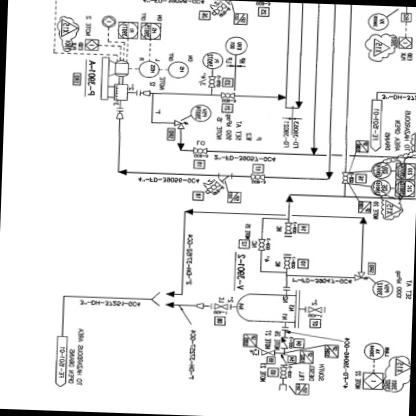LMI: (222, 34, 250, 56), (190, 102, 212, 124), (372, 280, 394, 300), (166, 61, 189, 80), (361, 342, 384, 361), (365, 13, 388, 32), (201, 52, 224, 70), (370, 162, 391, 180), (138, 61, 160, 78), (370, 179, 390, 196)
TAG: (138, 23, 162, 40), (116, 21, 138, 39), (394, 180, 414, 198), (394, 163, 415, 180)
